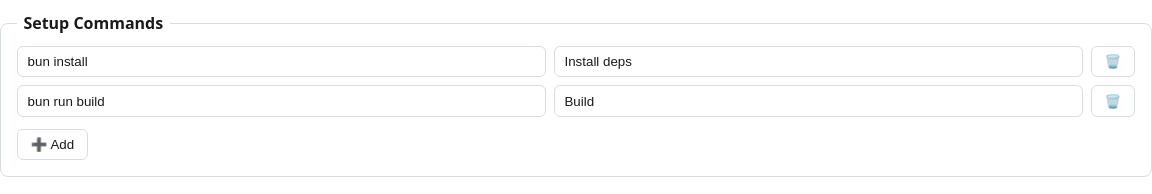
Test: SetupCommandsEditor › removing a row deletes that entry only
Click the button named "Remove": (1113, 62) [1091, 46, 1135, 77]
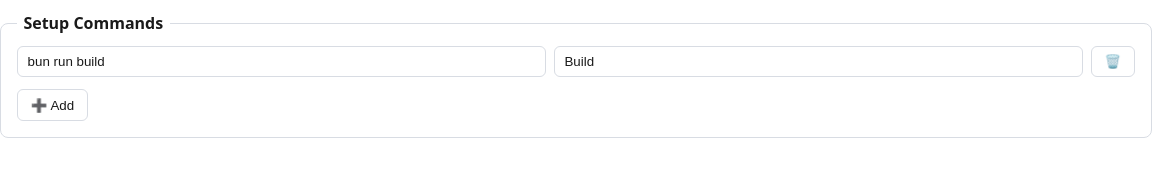
Expected: the field showing "bun install" is not shown
Expected: the field named "Command" holds "bun run build", [17, 46, 546, 77]
